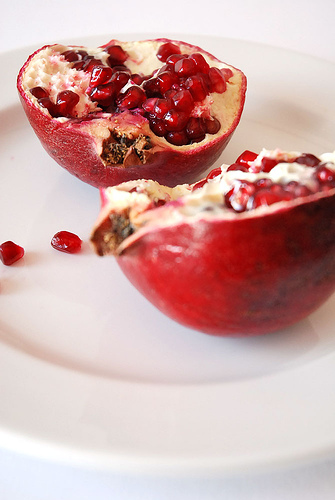pomogranate: (90, 150, 333, 336), (11, 30, 248, 195), (50, 230, 83, 253)
